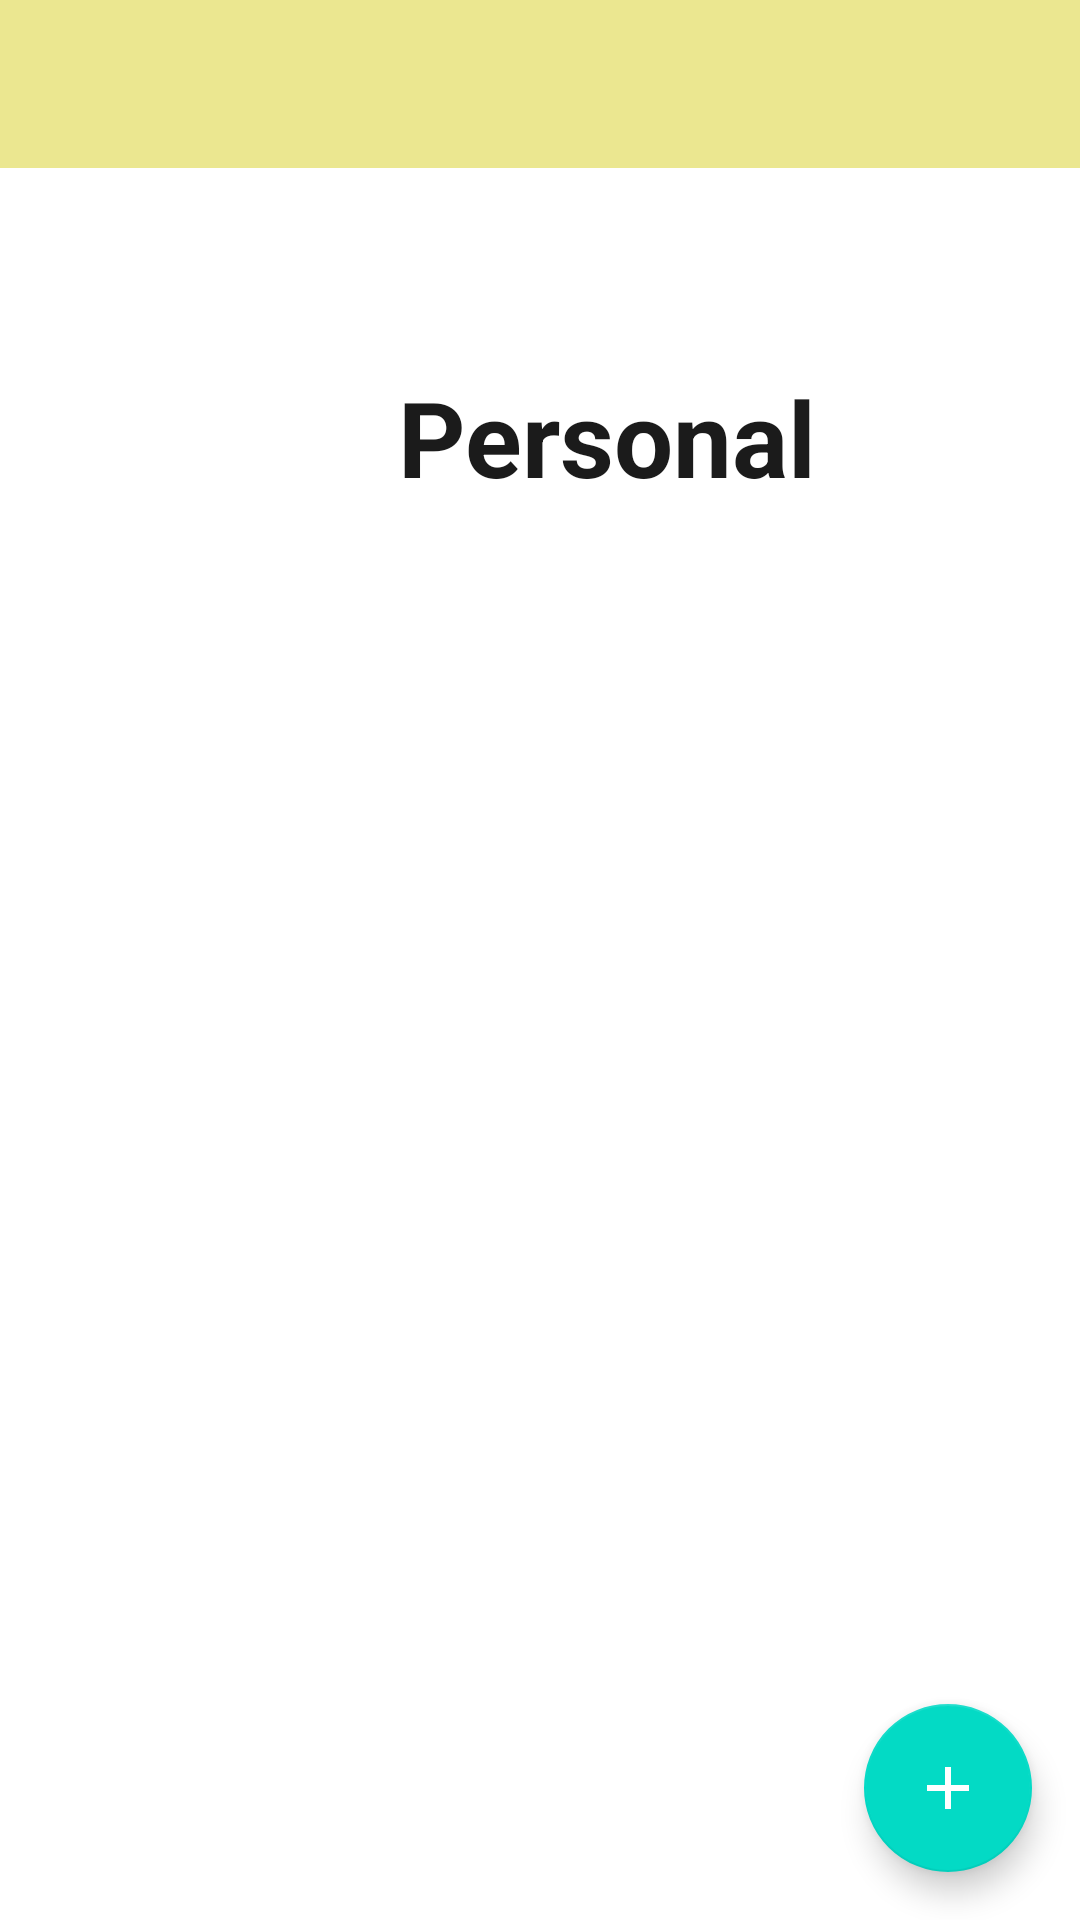

Named icons in this screenshot (1080x1920) and their bounding boxes, (x1, y1, x2, y2):
Add task button: (864, 1704, 1032, 1872)
